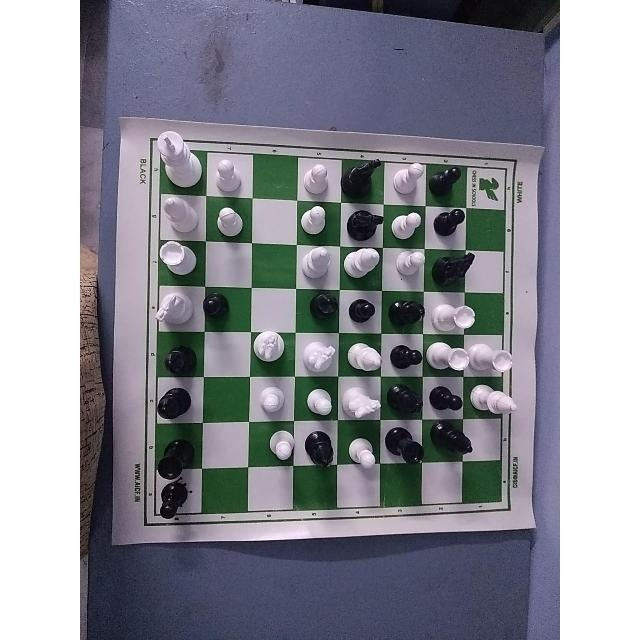black-bishop: (149, 380, 195, 430), (147, 331, 197, 377), (295, 286, 343, 330), (431, 424, 481, 463), (300, 433, 338, 479), (385, 381, 427, 421), (386, 294, 426, 332)
black-knight: (428, 237, 480, 291), (345, 152, 388, 198), (346, 198, 385, 242)
black-pawn: (144, 488, 195, 532), (427, 159, 470, 198), (428, 205, 472, 240), (429, 377, 462, 421), (346, 291, 384, 326), (199, 291, 238, 325), (387, 337, 423, 370)
black-rook: (385, 424, 425, 480), (149, 436, 199, 480)
white-bishop: (155, 189, 200, 235), (470, 383, 518, 422), (343, 332, 383, 371), (296, 243, 334, 283), (338, 247, 389, 275)
white-king: (151, 129, 217, 191)
white-knight: (140, 283, 192, 329), (246, 327, 287, 377), (294, 331, 342, 373)
white-pawn: (291, 150, 337, 197), (345, 431, 381, 485), (394, 148, 430, 198), (341, 379, 381, 421), (290, 199, 332, 239), (263, 428, 294, 480), (209, 203, 249, 243), (250, 378, 284, 425), (213, 154, 252, 191), (386, 204, 423, 241), (395, 244, 426, 286), (305, 381, 333, 421)
white-rook: (151, 235, 203, 276), (430, 294, 478, 334), (472, 335, 515, 375), (429, 339, 472, 373)
